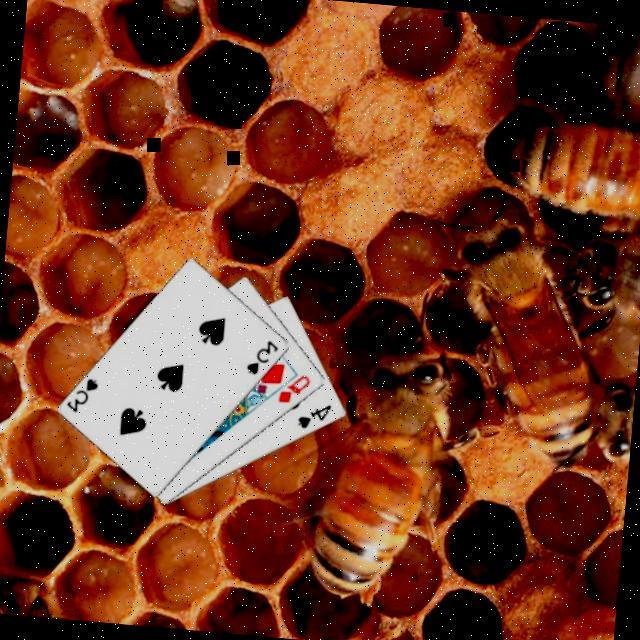3S: (61, 374, 101, 419), (242, 338, 281, 381)
4S: (293, 401, 334, 436)
QD: (274, 371, 313, 410)
